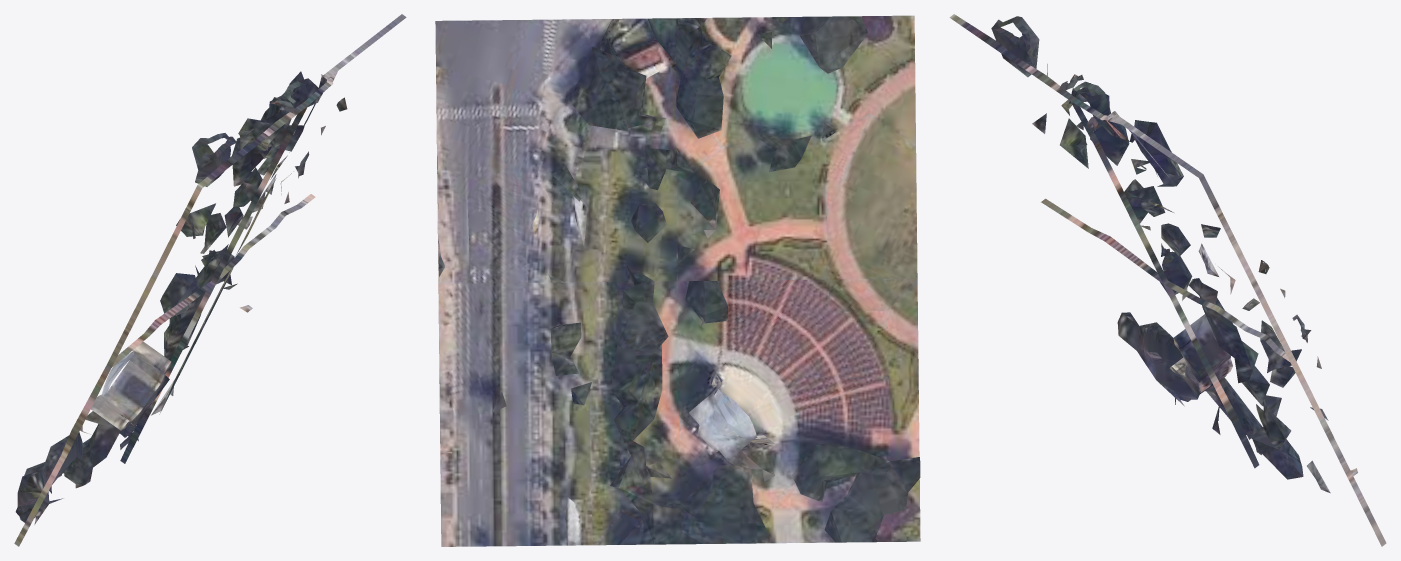
3 renders of one model, left to right at view 1: azimuth 30°, elevation 25°; view 2: azimuth 150°, elevation 25°; view 3: azimuth 270°, elevation 25°, orthographic. The views are drawn at different scales.
Bounding box in the file's own units: 152 × 143 × 131.
1 material, 1 textured.
